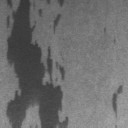red iron: (5, 0, 70, 128), (110, 85, 122, 118), (52, 13, 62, 35), (58, 0, 66, 8), (102, 26, 107, 34), (112, 39, 117, 44), (46, 0, 50, 4), (114, 124, 118, 128)
